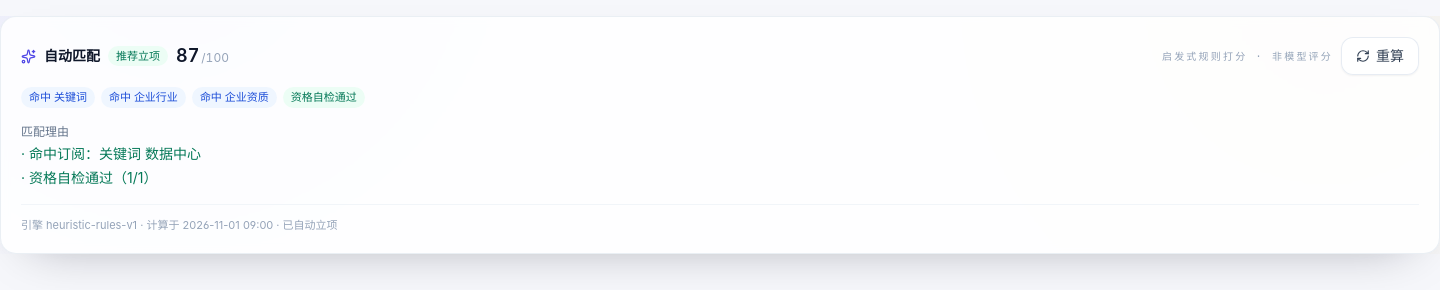
Test: OpportunityMatchPanel › recomputes through POST and replaces the displayed match
Expected: the text "87/100" is shown, x1=176 y1=42 x2=229 y2=70
Click the button "重算": (1380, 56) x1=1341 y1=37 x2=1419 y2=75
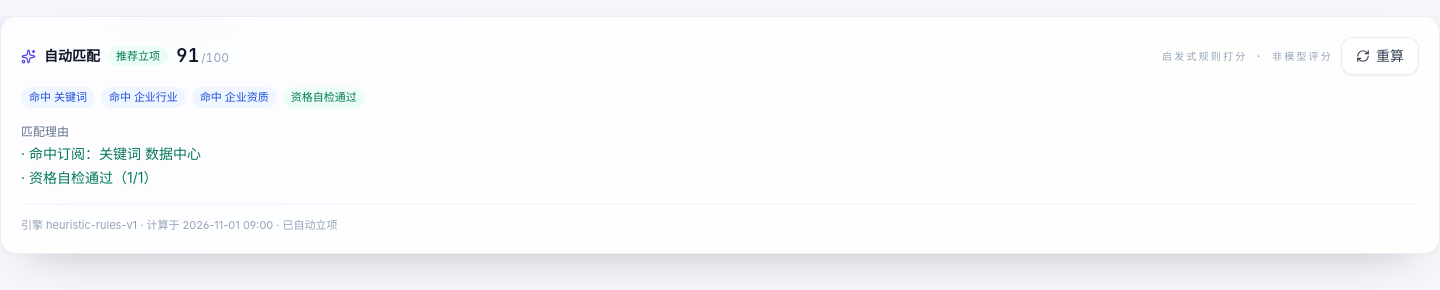
Expected: the text "91/100" is shown, x1=176 y1=42 x2=229 y2=70
